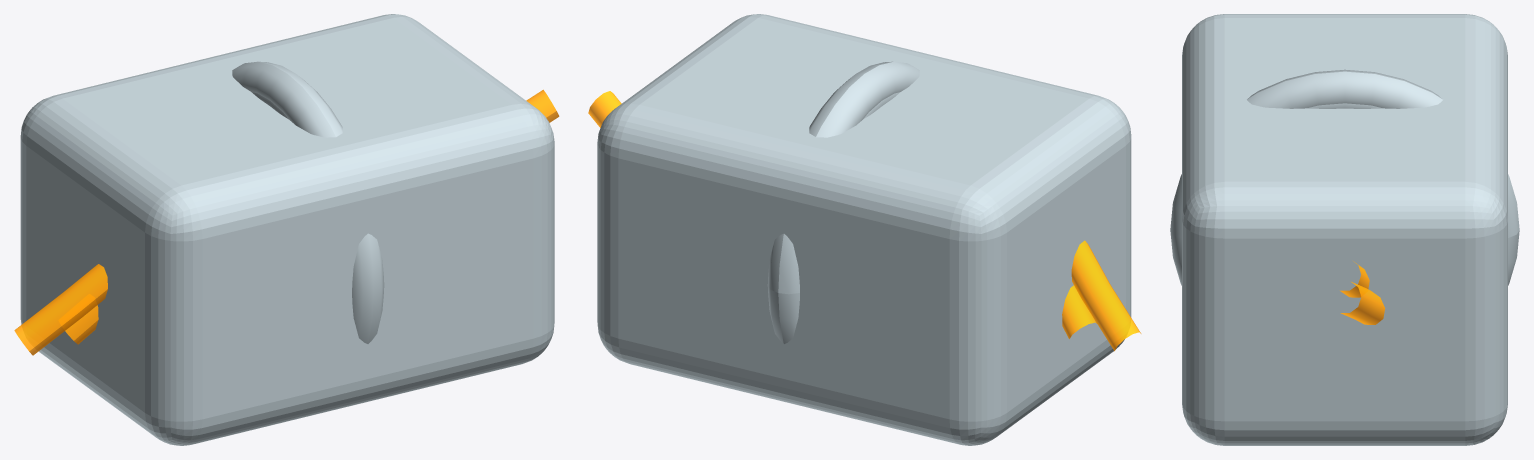
File: transmission_hydraulics_05.glb
3 renders of one model, left to right at view 1: azimuth 30°, elevation 25°; view 2: azimuth 150°, elevation 25°; view 3: azimuth 270°, elevation 25°, orthographic.
Visible parts, largest first — view 1: asset_mesh__transmission_hydraulics_0224__reference_body, asset_mesh__transmission_hydraulics_0242__functional_ring, asset_mesh__transmission_hydraulics_0250__fluid_path, asset_mesh__transmission_hydraulics_0247__fluid_path; view 2: asset_mesh__transmission_hydraulics_0224__reference_body, asset_mesh__transmission_hydraulics_0242__functional_ring, asset_mesh__transmission_hydraulics_0250__fluid_path, asset_mesh__transmission_hydraulics_0247__fluid_path; view 3: asset_mesh__transmission_hydraulics_0224__reference_body, asset_mesh__transmission_hydraulics_0242__functional_ring, asset_mesh__transmission_hydraulics_0250__fluid_path.
Part boxes in pixels (left/top/right/bottom): asset_mesh__transmission_hydraulics_0224__reference_body: left=20, top=14, right=554, bottom=445; asset_mesh__transmission_hydraulics_0242__functional_ring: left=232, top=61, right=384, bottom=343; asset_mesh__transmission_hydraulics_0250__fluid_path: left=14, top=89, right=559, bottom=355; asset_mesh__transmission_hydraulics_0247__fluid_path: left=65, top=305, right=98, bottom=344; asset_mesh__transmission_hydraulics_0224__reference_body: left=597, top=14, right=1131, bottom=445; asset_mesh__transmission_hydraulics_0242__functional_ring: left=767, top=61, right=919, bottom=343; asset_mesh__transmission_hydraulics_0250__fluid_path: left=588, top=91, right=1141, bottom=351; asset_mesh__transmission_hydraulics_0247__fluid_path: left=1062, top=285, right=1096, bottom=338; asset_mesh__transmission_hydraulics_0224__reference_body: left=1182, top=14, right=1507, bottom=445; asset_mesh__transmission_hydraulics_0242__functional_ring: left=1170, top=69, right=1519, bottom=285; asset_mesh__transmission_hydraulics_0250__fluid_path: left=1340, top=282, right=1385, bottom=324.
Bounding box in the file's own units: 1.64 × 0.8996 × 0.8996.
